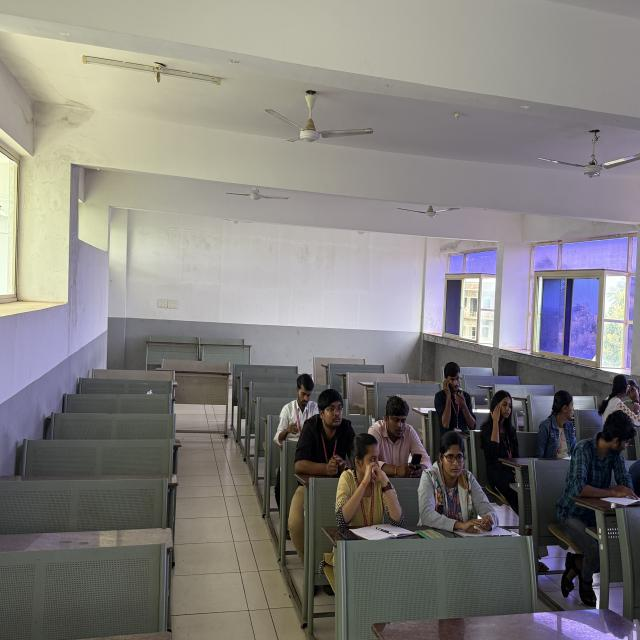Using Phone: (370, 390, 430, 480), (424, 356, 480, 442)
Writing: (275, 371, 322, 445)
